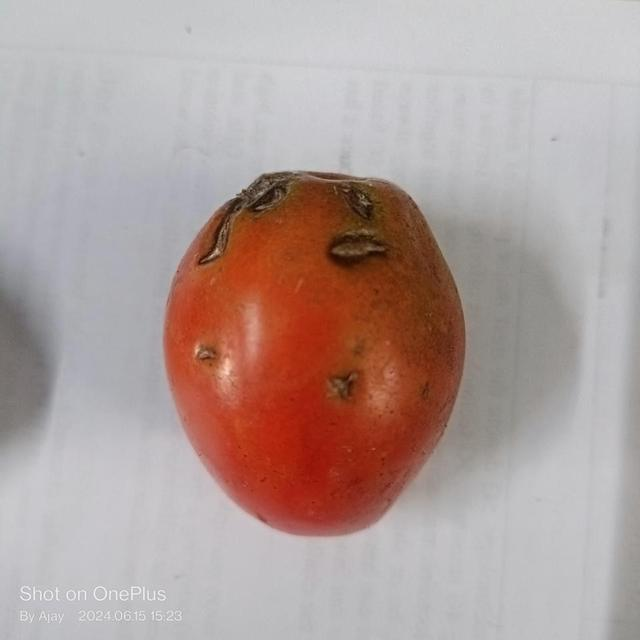Cracking Fruit: (132, 119, 217, 174)
